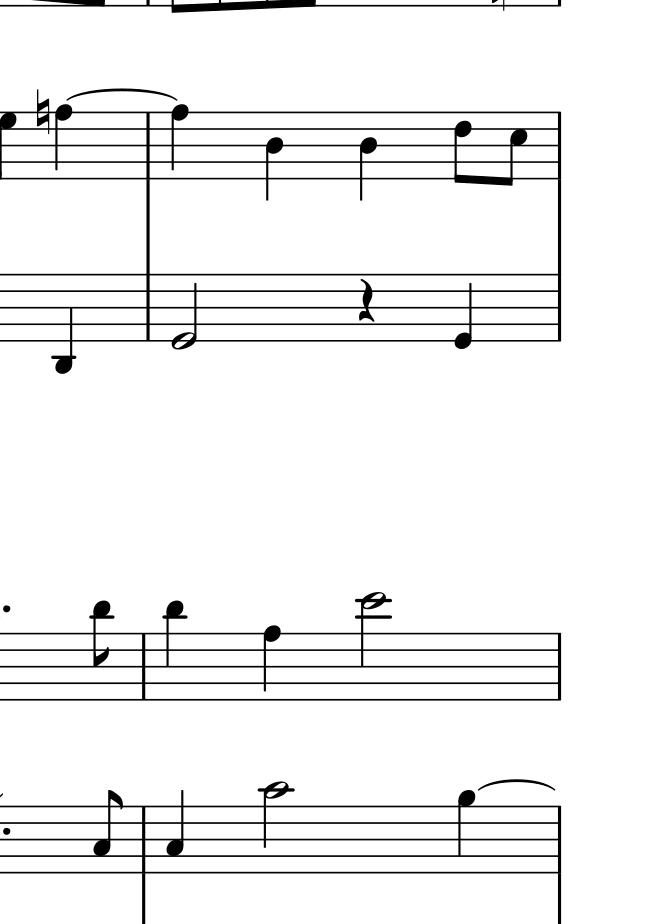2_0: (169, 272, 198, 352)
2_10: (260, 780, 294, 876)
2_12: (357, 591, 388, 701)
4_-3: (52, 273, 74, 375)
4_0: (453, 271, 475, 352)
4_11: (162, 600, 188, 703)
4_3: (164, 787, 187, 876)
4_4: (264, 110, 288, 202), (357, 109, 378, 204)
4_8: (260, 623, 285, 703), (168, 104, 190, 179), (53, 103, 73, 182)
4_9: (456, 790, 477, 876)
8_11: (89, 600, 111, 703)
8_3: (92, 787, 124, 875)
8_5: (502, 109, 528, 186)
8_6: (452, 110, 472, 186)
Natural: (33, 89, 50, 136)
Rests4: (356, 275, 379, 323)
Single_barline: (547, 274, 568, 341), (134, 805, 154, 874), (140, 111, 160, 179), (547, 632, 567, 699), (548, 805, 566, 873), (136, 632, 154, 698), (140, 274, 157, 340), (549, 111, 564, 179)
Slur: (66, 88, 178, 102), (478, 778, 555, 792)
